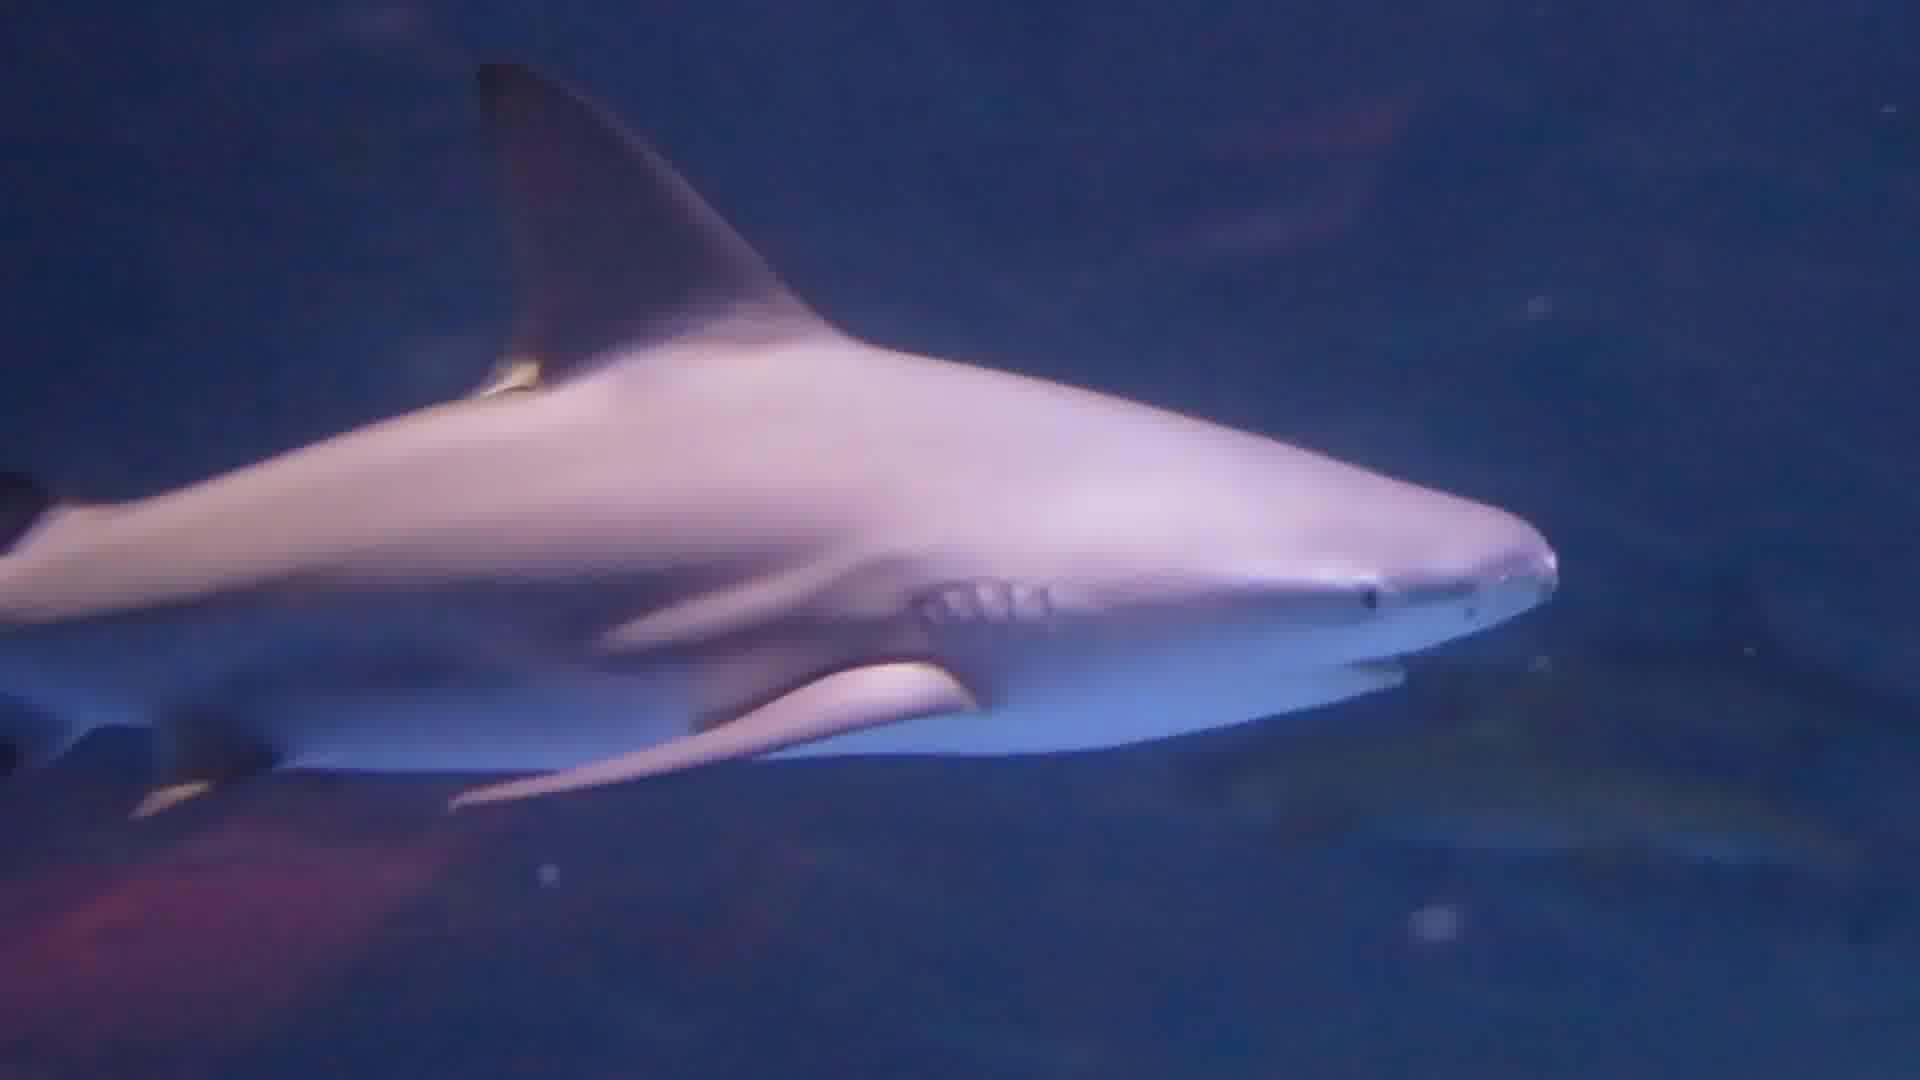Carcharhinus leucas: (4, 69, 1564, 827)
